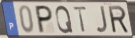0: (18, 4, 37, 35)
J: (95, 5, 109, 35)
P: (35, 5, 54, 35)
Q: (55, 5, 75, 35)
R: (107, 5, 130, 35)
T: (72, 5, 88, 33)
